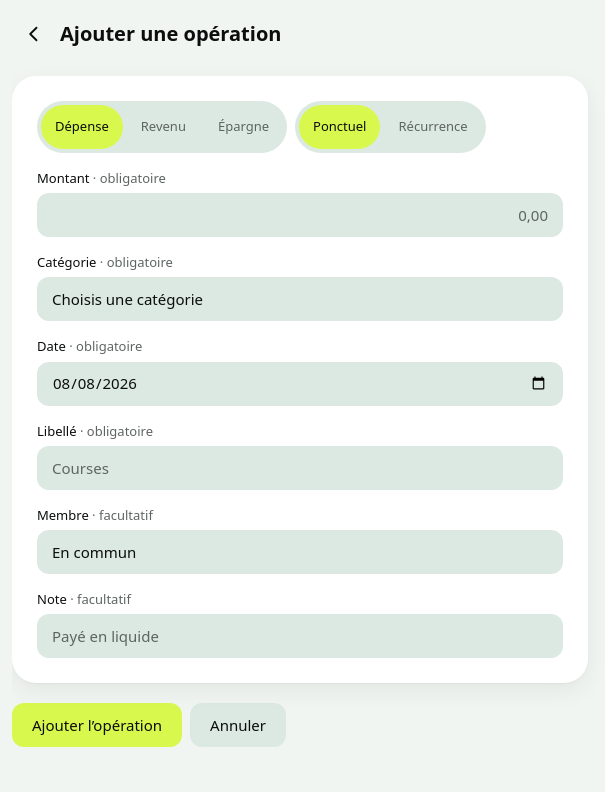
la saisie d’un mouvement d’épargne › remplace la catégorie et le membre par le support
Click the radio button labelled "Épargne" at x=243, y=127, box x1=204 y1=105 x2=283 y2=149
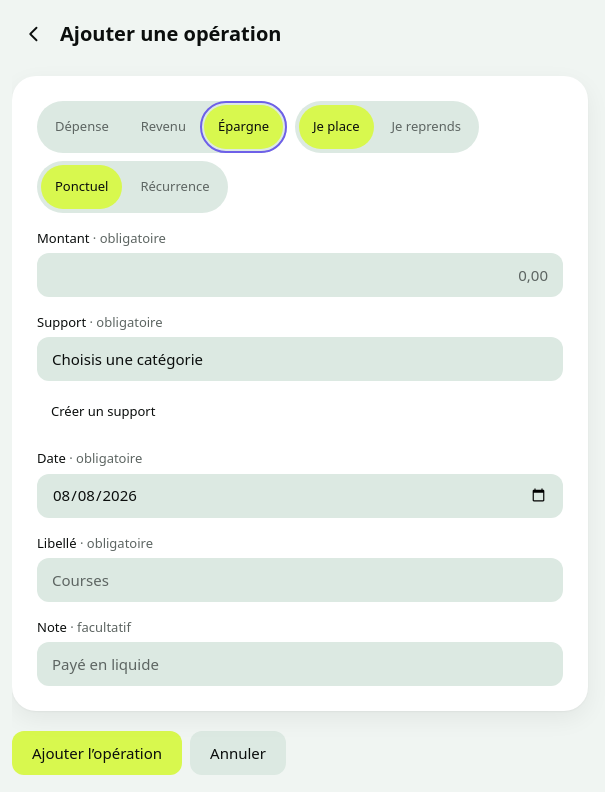
Expected: the dropdown labelled "Support · obligatoire" is shown, x1=37 y1=337 x2=563 y2=381
Expected: the label labelled "Membre" is gone
